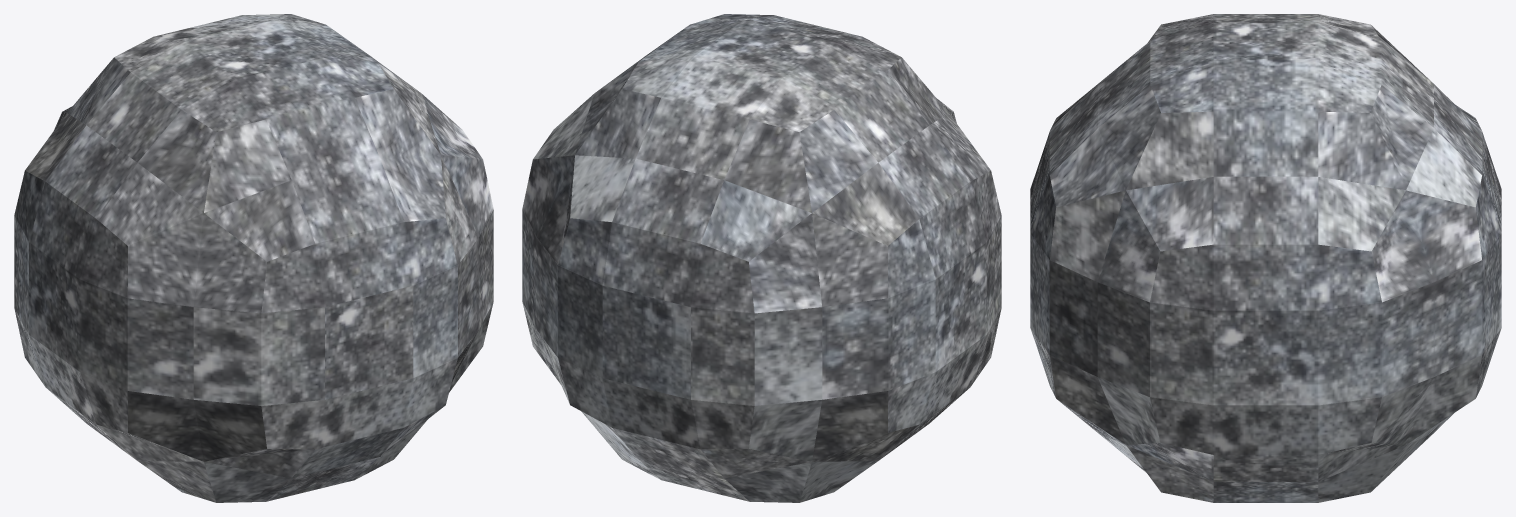
The model's file is TDB_Stones.fbx.
3 renders of one model, left to right at view 1: azimuth 30°, elevation 25°; view 2: azimuth 150°, elevation 25°; view 3: azimuth 270°, elevation 25°, orthographic. The views are drawn at different scales.
Visible parts, largest first — view 1: Boulder; view 2: Boulder; view 3: Boulder.
Part boxes in pixels (bbox=[...]): Boulder: bbox=[14, 14, 493, 502]; Boulder: bbox=[522, 14, 1001, 502]; Boulder: bbox=[1030, 14, 1501, 502].
Bounding box in the file's own units: 1.8 × 1.8 × 1.8.
